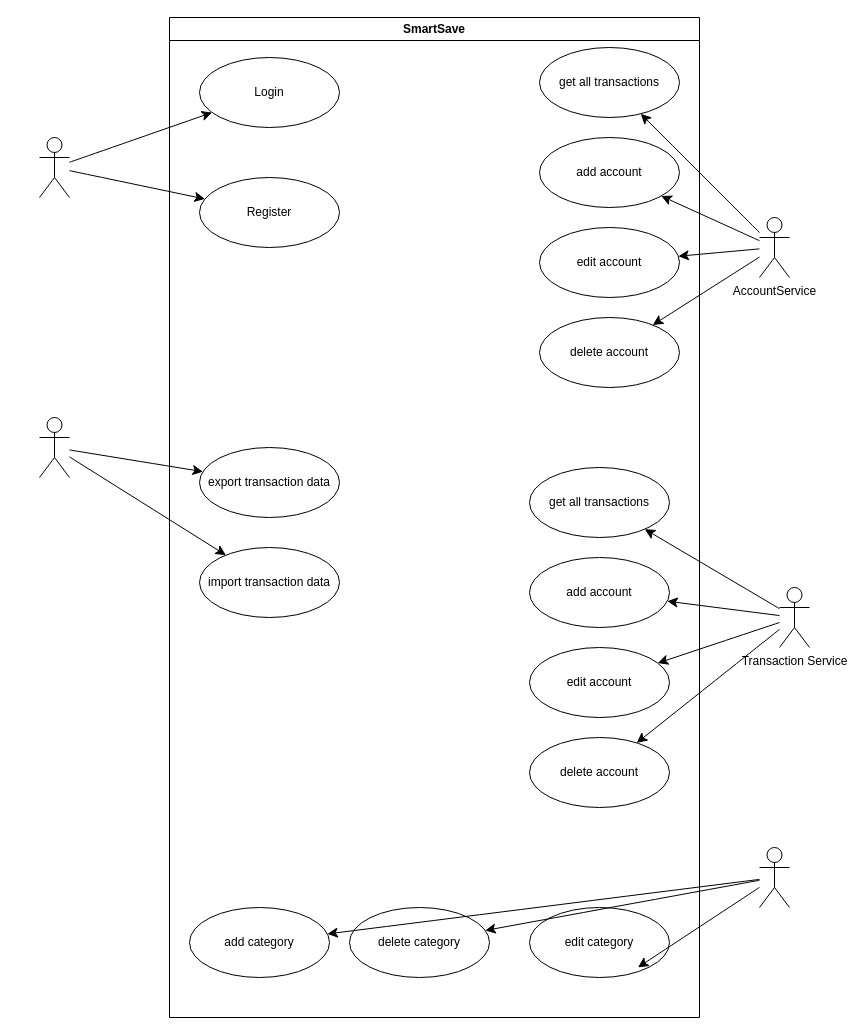
Image size: 865x1035. Some labels were removed from this diagram. Here are the shapes that lost their labels. From the top down, the box of each, then its label:
(38, 136, 70, 198): User
(38, 416, 70, 478): OptionService
(758, 846, 790, 908): CategoryService
